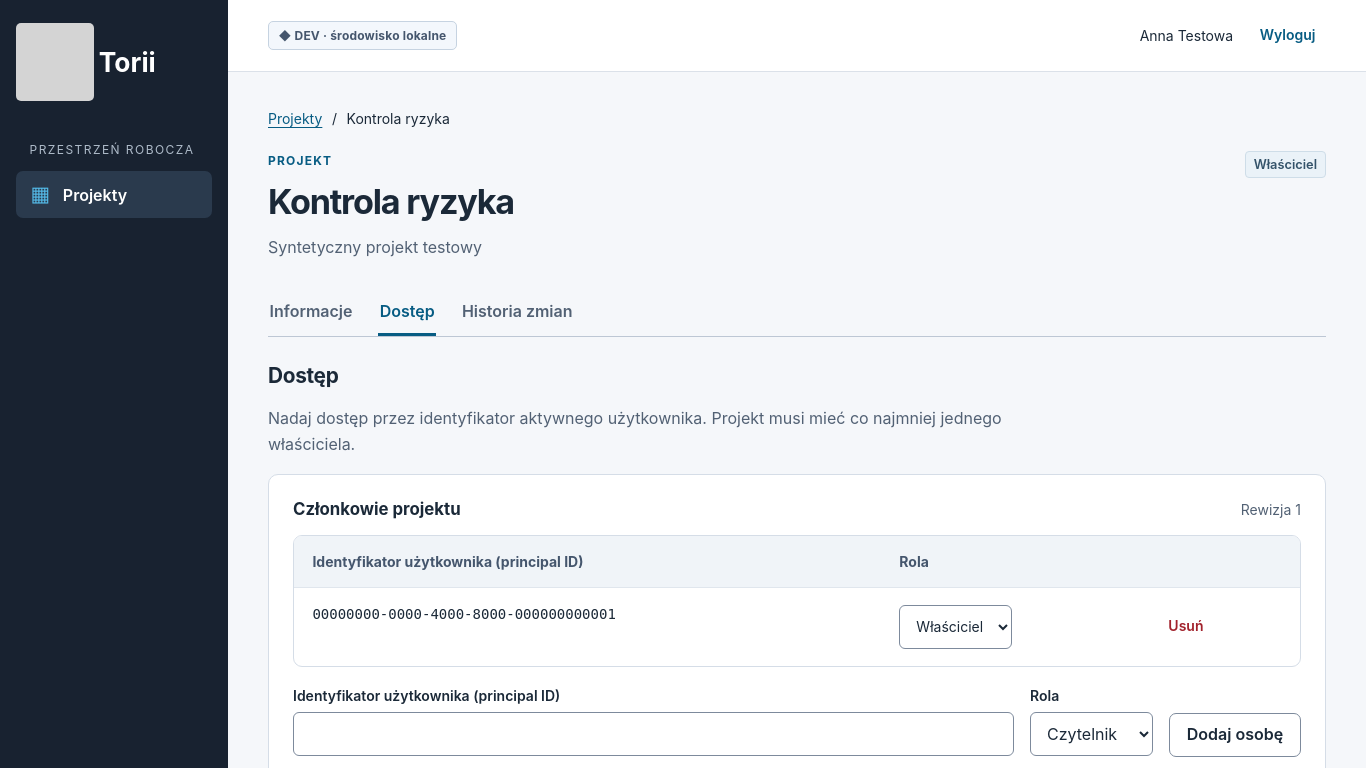
Test case: SPEC-0001 access policy and SPEC-0017 conflict/revocation UI › discards the project and comparison after a grant is revoked
Type "00000000-0000-4000-8000-000000000002" into the field labelled "Identyfikator użytkownika (principal ID)" at (654, 734), box [293,712,1014,756]
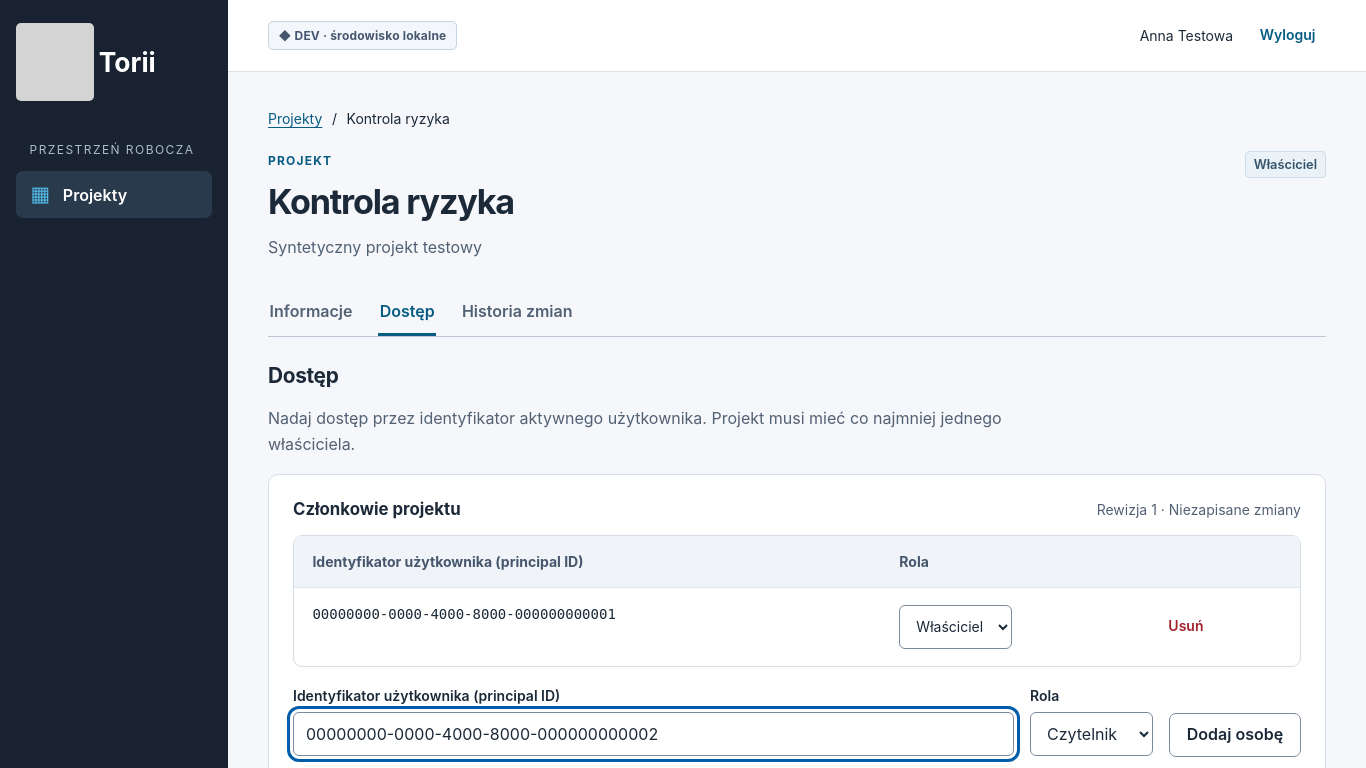
Click the button "Dodaj osobę" at (1235, 735), box [1169,713,1301,757]
(page scrolled)
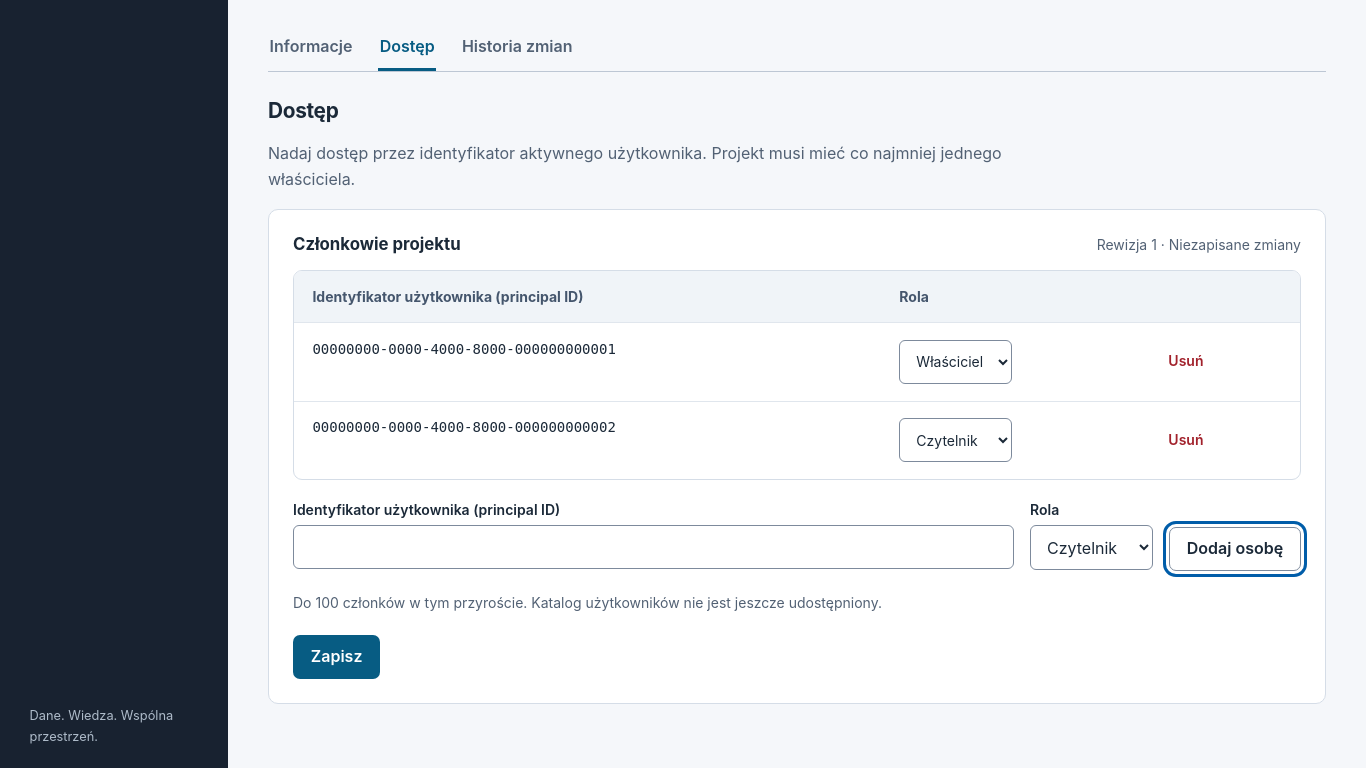
Click the button "Zapisz" at (337, 657), box [293,635,380,679]
(page scrolled)
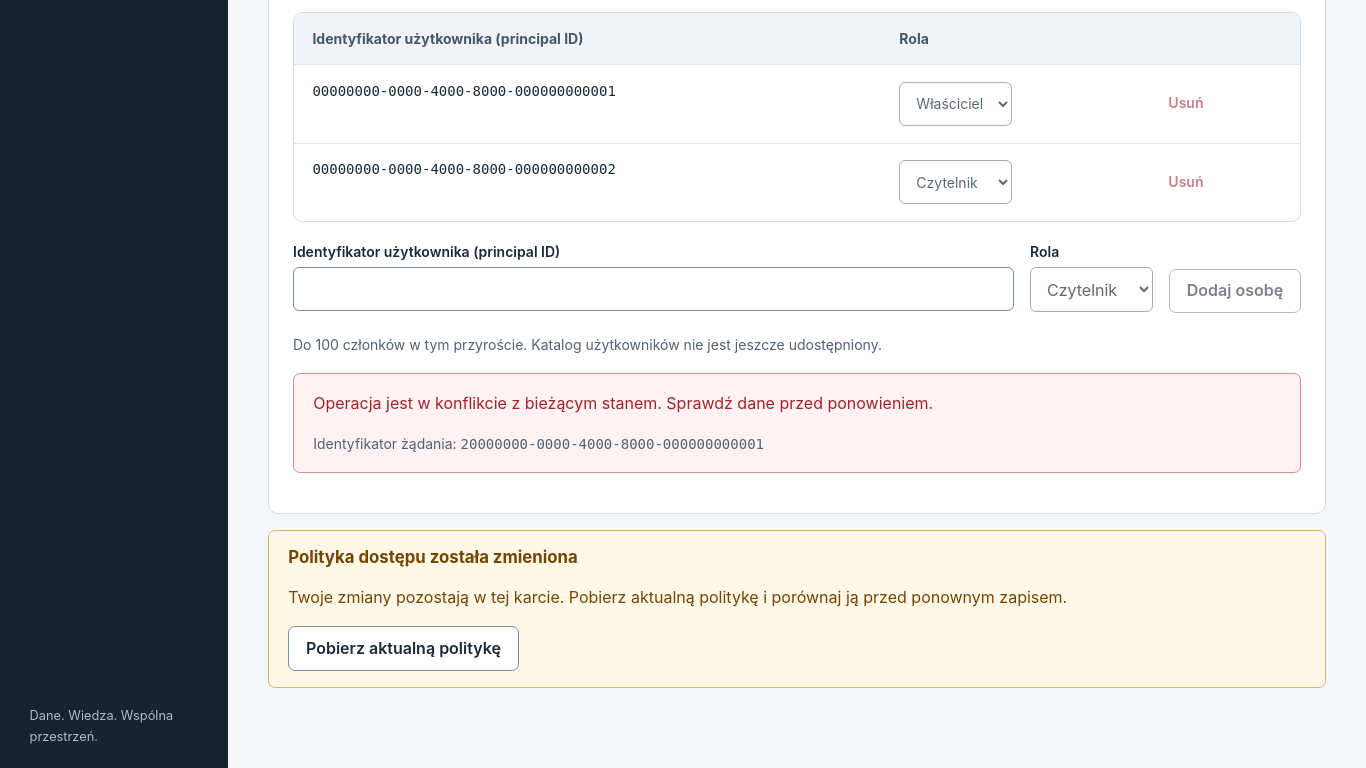
Click the button "Pobierz aktualną politykę" at (403, 649), box [288,626,519,671]
(page scrolled)
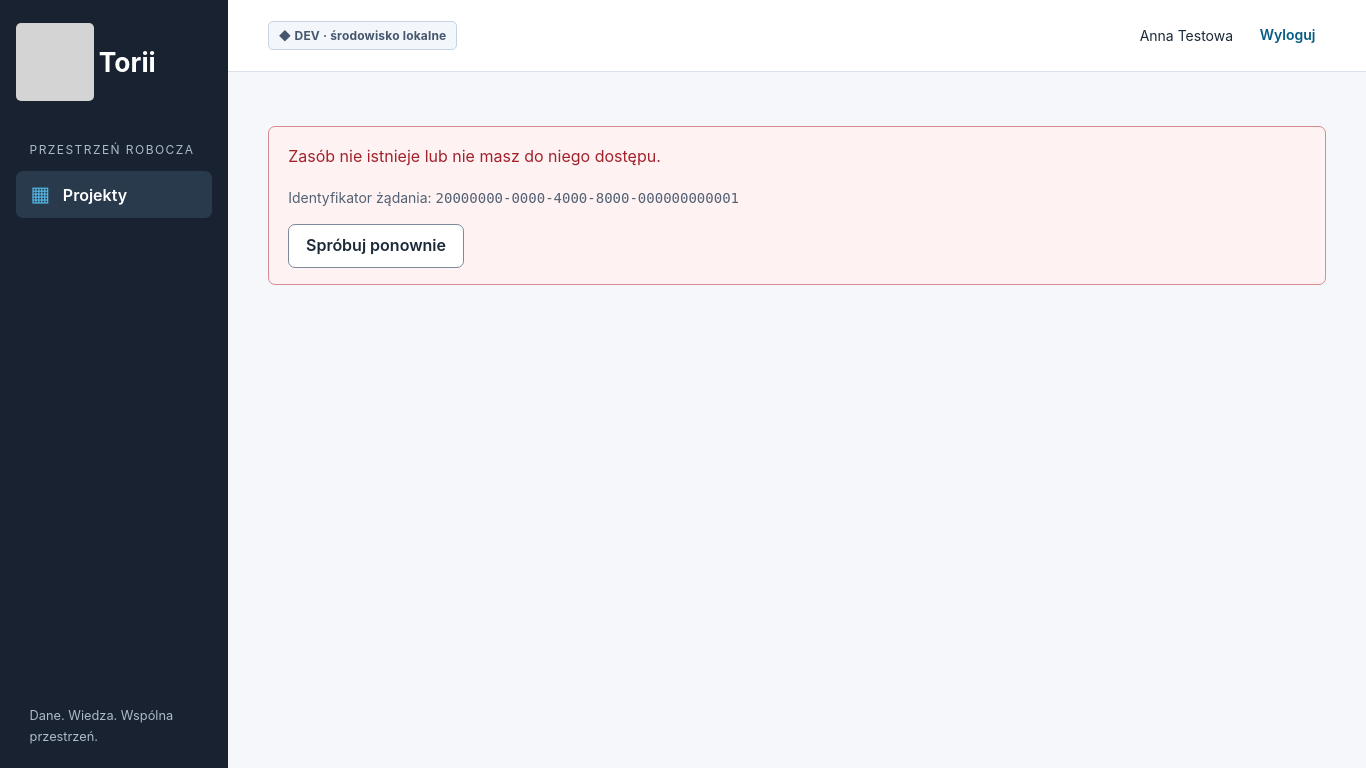
Expected: the text "Zasób nie istnieje lub nie masz do niego dostępu." is shown, [288,146,661,166]
Expected: the text "00000000-0000-4000-8000-000000000002" is gone
Expected: the text "00000000-0000-4000-8000-000000000001" is gone
